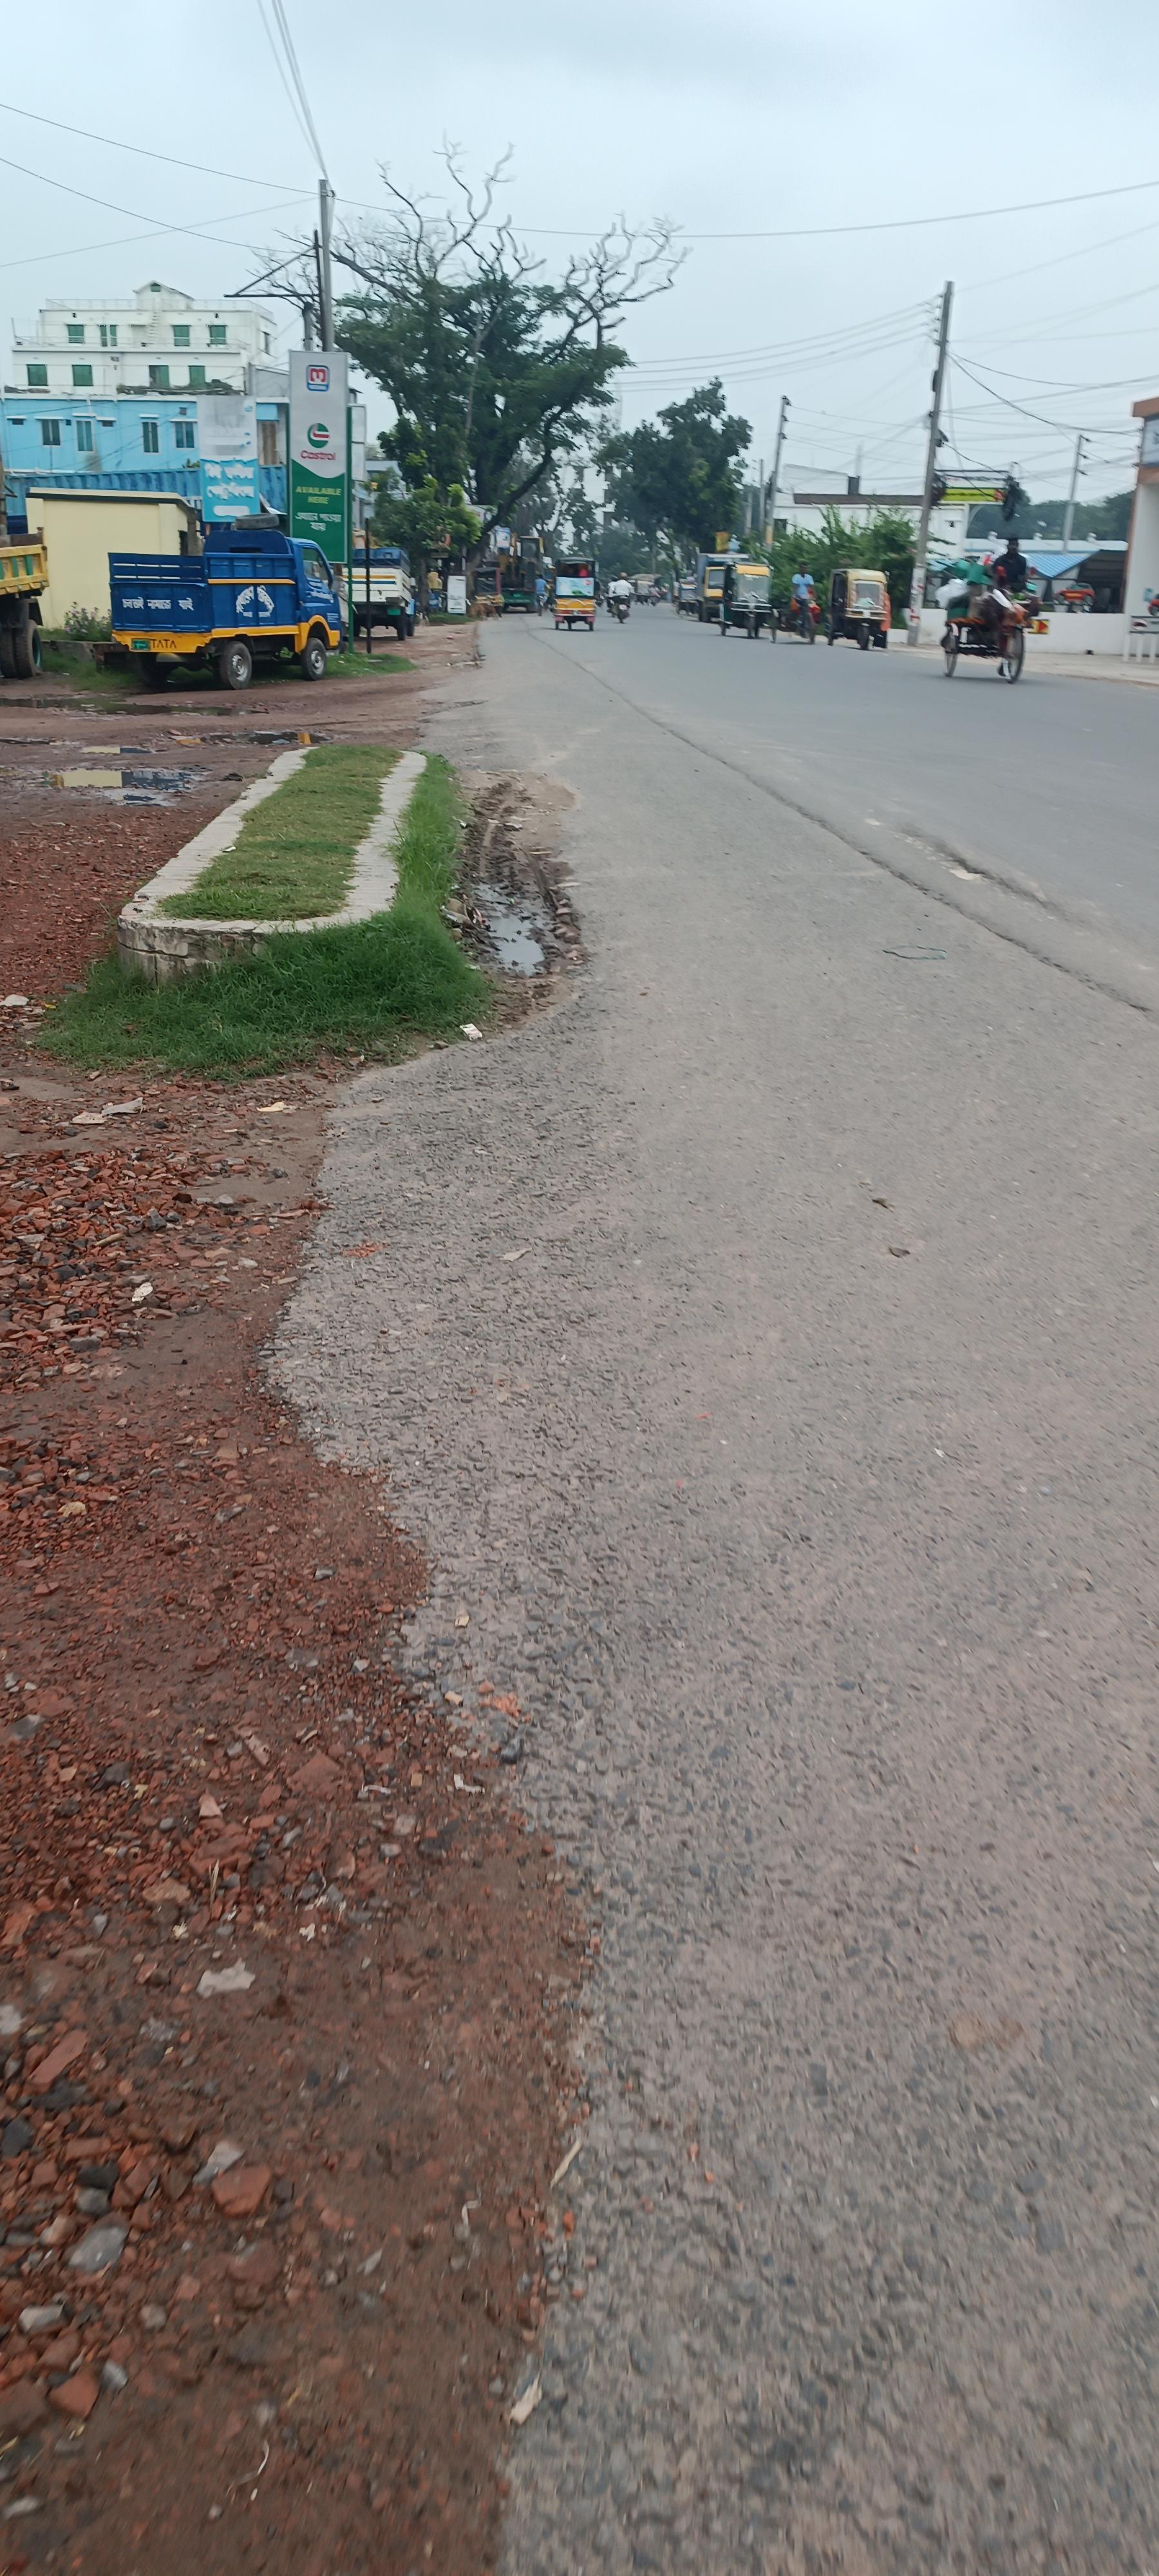Construction-barrier: (115, 733, 432, 987)
Fallen-tree: (939, 588, 1033, 682)
Garbage-bin: (993, 537, 1028, 593)
